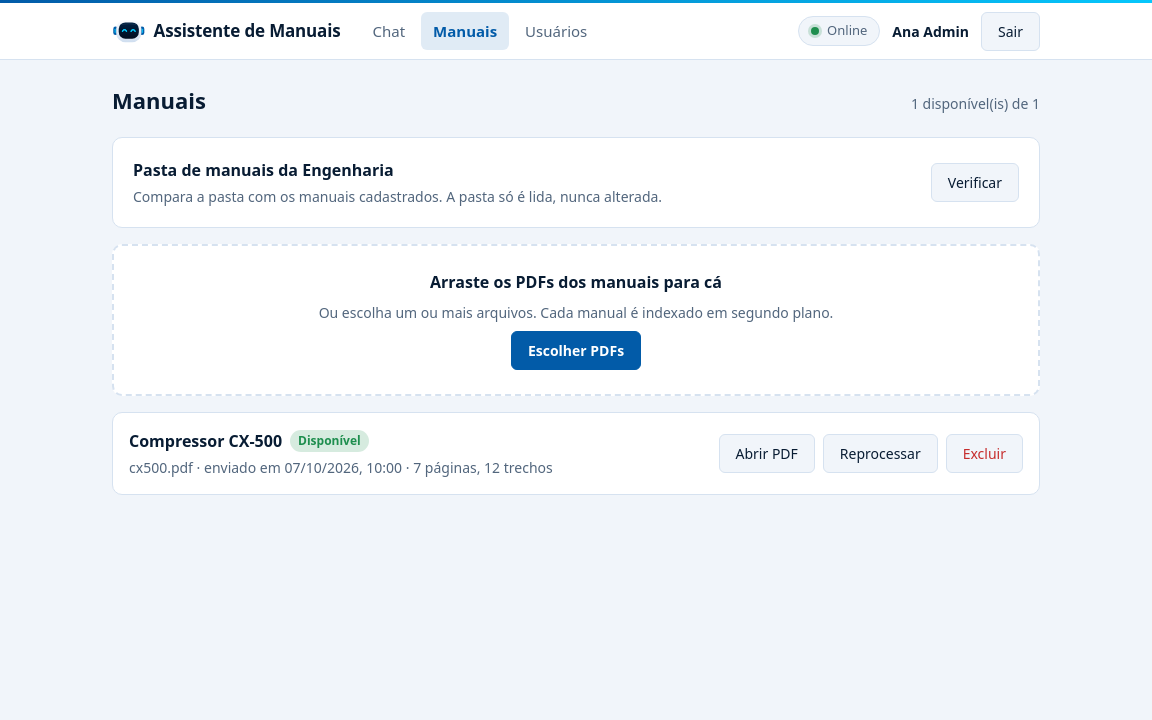
Scenario: <ManualsAdmin /> › sync with the Engineering folder › checks, then syncs after confirmation
Click the button "Verificar". click: click(975, 182)
box: [931,163,1019,202]
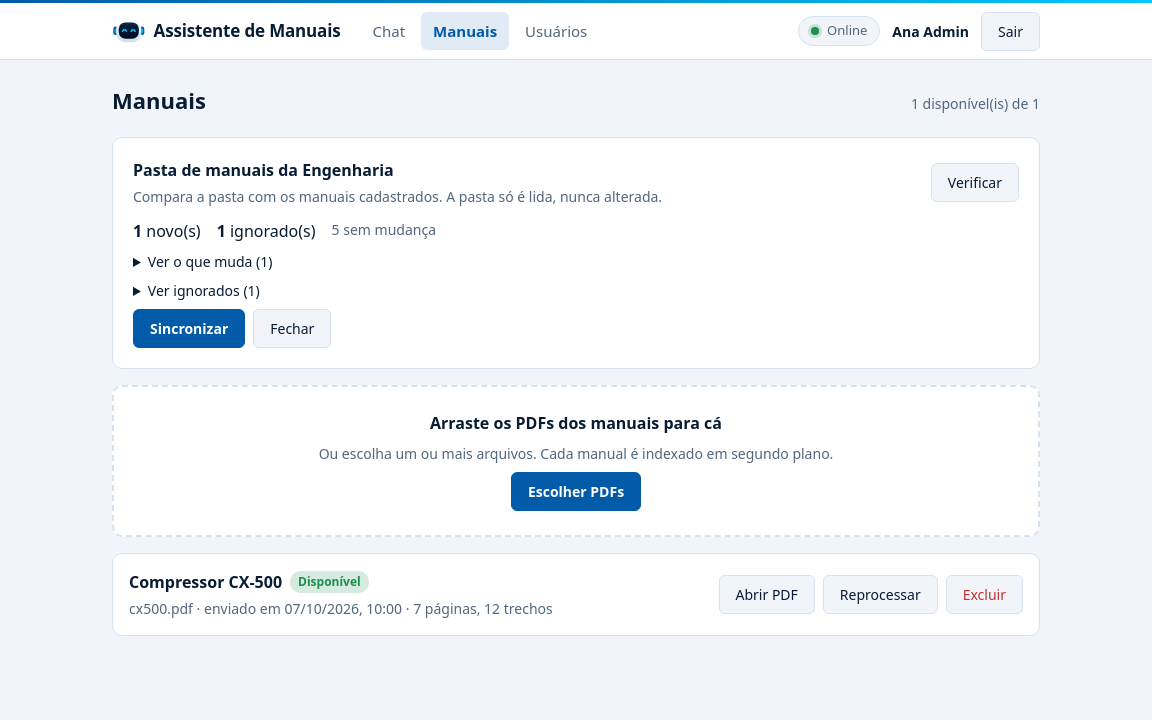
Expected: the list item "1 novo(s)" is shown, [133,219,201,243]
Expected: the list item "5 sem mudança" is shown, [332,219,436,243]
Expected: the heading "Ver ignorados (1)" is shown, [148,281,260,300]
Click the button "Sincronizar". click: click(189, 328)
box: [133,309,245,348]
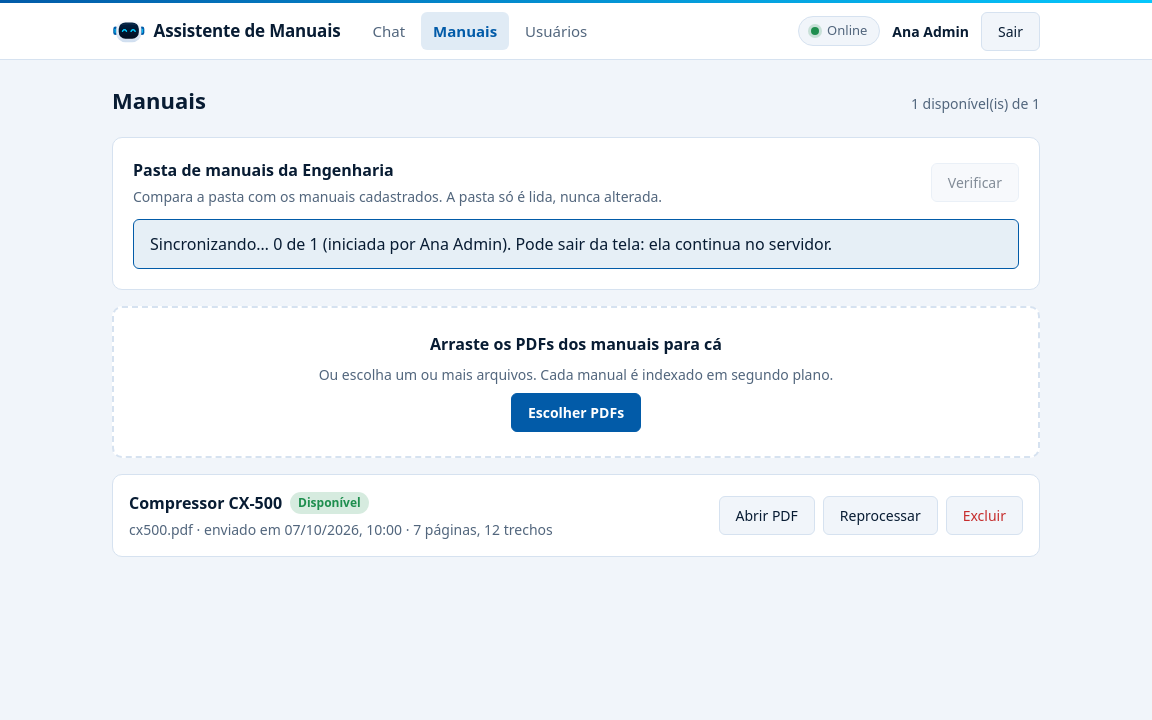
Expected: the text "Sincronizando… 0 de 1" is shown, [133,219,1019,269]
Expected: the button "Verificar" is disabled, [931,163,1019,202]
